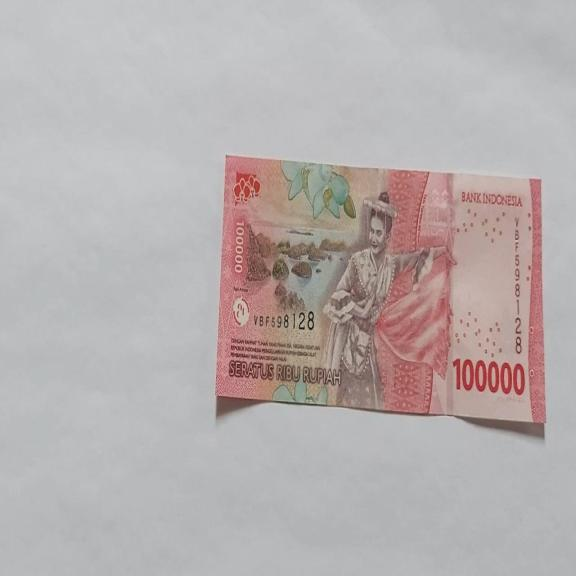Kertas: (214, 154, 546, 425), (452, 355, 525, 396)
